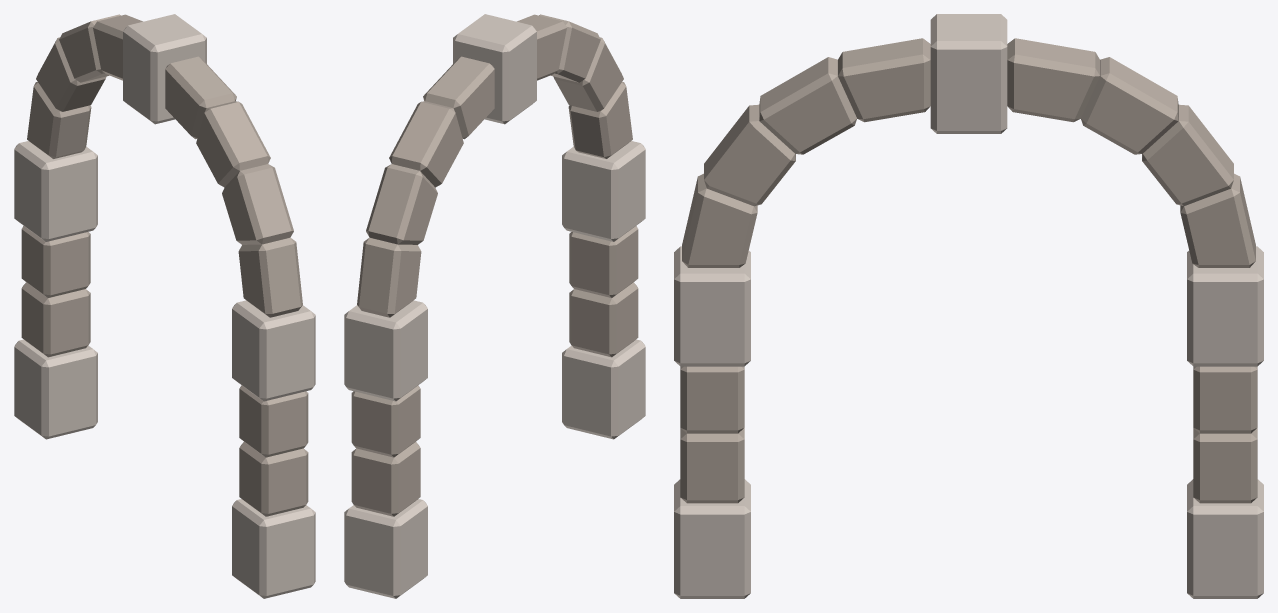
File: object6_011-col.gltf
The picture shows the model from 3 angles, left to right: view 1: azimuth 30°, elevation 25°; view 2: azimuth 150°, elevation 25°; view 3: azimuth 270°, elevation 25°; orthographic projection. The views are drawn at different scales.
Visible parts, largest first — view 1: object6.011-col; view 2: object6.011-col; view 3: object6.011-col.
Boxes of the visible parts, left/top/right/bottom form: object6.011-col: left=14, top=14, right=315, bottom=598; object6.011-col: left=344, top=14, right=645, bottom=598; object6.011-col: left=674, top=14, right=1263, bottom=598.
Bounding box in the file's own units: 0.3 × 2.4 × 2.3.
